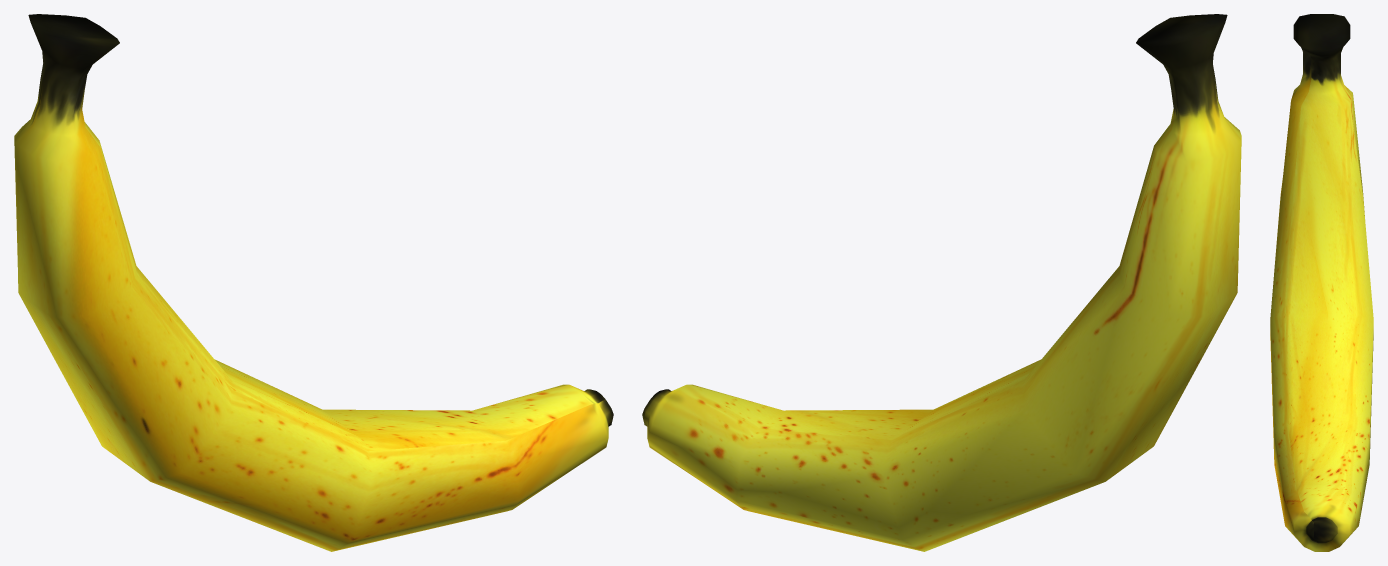
File: banana.fbx
3 views of the same model, side by side, from view 1: azimuth 30°, elevation 25°; view 2: azimuth 150°, elevation 25°; view 3: azimuth 270°, elevation 25° (orthographic). The views are drawn at different scales.
Parts seen in each view (by area): view 1: banana_msh; view 2: banana_msh; view 3: banana_msh.
Boxes of the visible parts, bbox=[...] form: banana_msh: bbox=[14, 14, 613, 551]; banana_msh: bbox=[642, 14, 1241, 551]; banana_msh: bbox=[1270, 14, 1373, 551].
Bounding box in the file's own units: 8.12 × 7.77 × 1.9.
